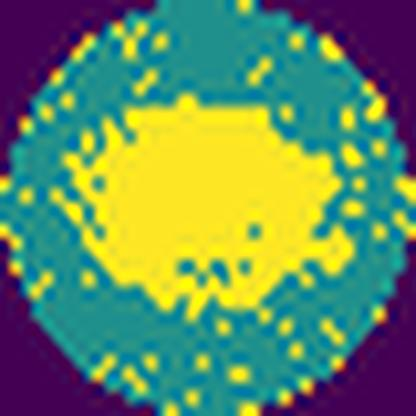Center: (55, 92, 355, 316)
